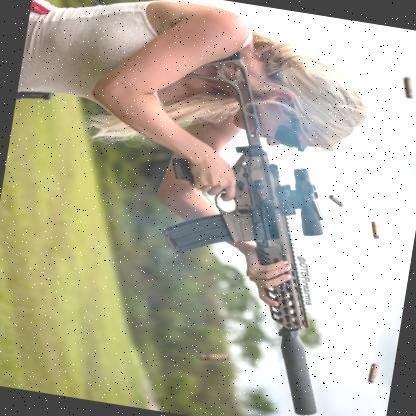rifle: (122, 40, 400, 416)
